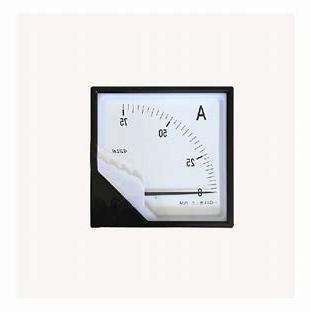pointer: (96, 91, 226, 222)
